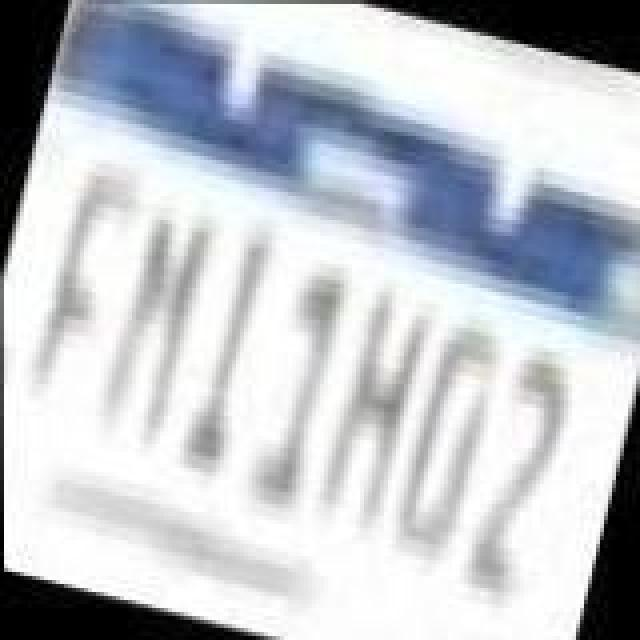1: (240, 246, 356, 510)
2: (458, 340, 586, 604)
D: (386, 306, 514, 562)
F: (18, 154, 146, 414)
H: (306, 274, 442, 546)
I: (172, 234, 280, 474)
M: (88, 200, 220, 456)
